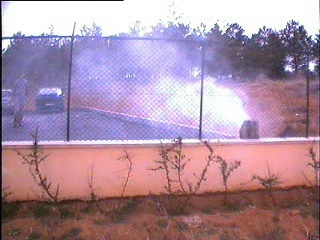smoke: (79, 32, 263, 136)
